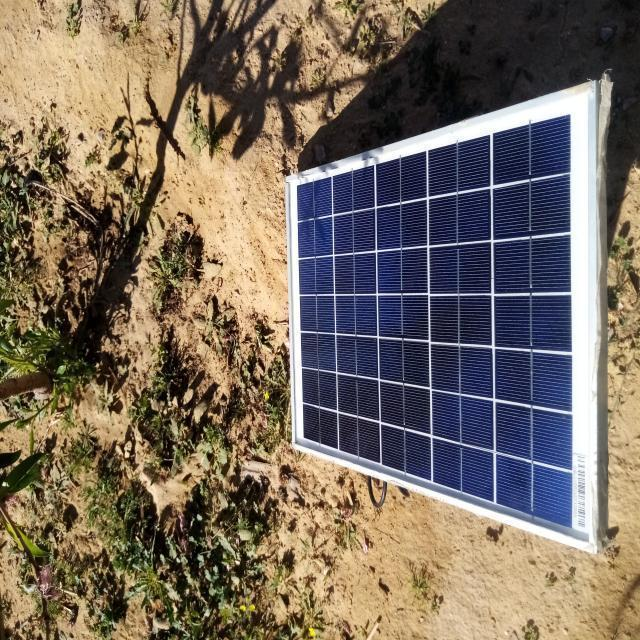Normal Solar Panel: (288, 84, 598, 554)
